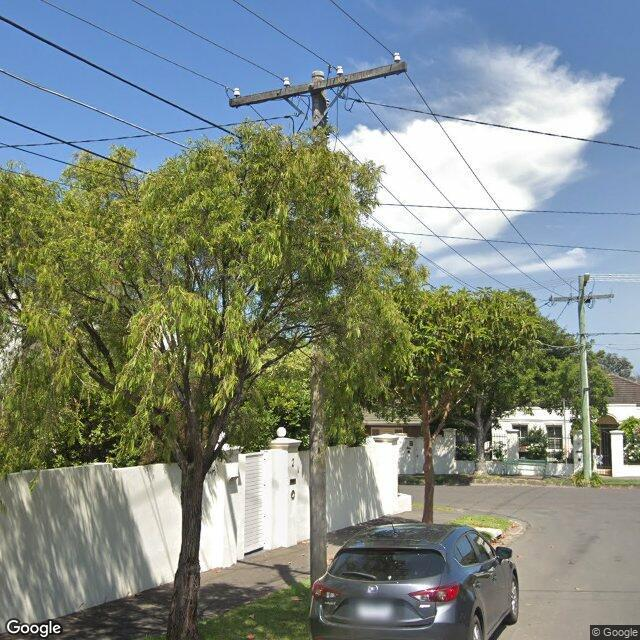crossarm: (229, 52, 408, 108), (548, 292, 616, 304)
streetlight: (581, 273, 590, 296)
timber-pole: (309, 71, 328, 583), (578, 276, 592, 478)
